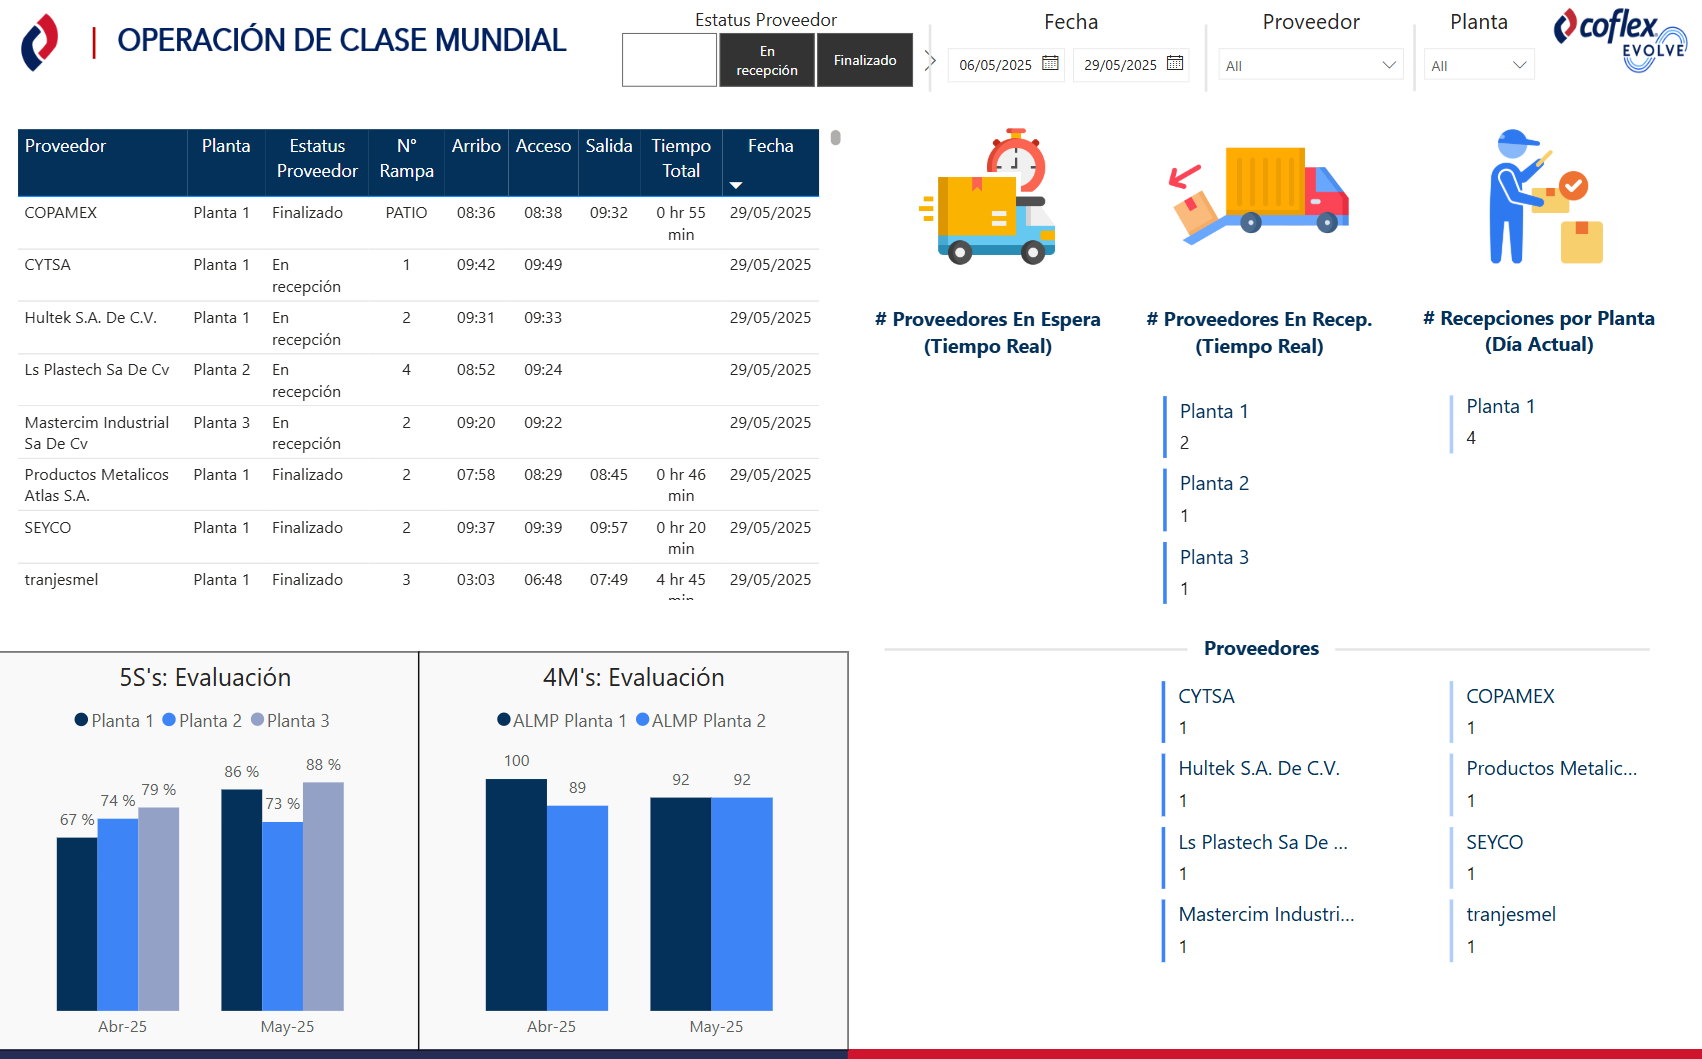

This screenshot's page, from the dashboard's own definition file:
{"tool":"powerbi","page":{"name":"General","canvas":[1280,800],"ordinal":0},"visuals":[{"type":"tableEx","fields":{"Values":["Entradas y Salidas Proveedores 2025.Proveedor","Entradas y Salidas Proveedores 2025.Planta","Entradas y Salidas Proveedores 2025.Estatus Proveedor","Entradas y Salidas Proveedores 2025.N° Rampa","Entradas y Salidas Proveedores 2025.Arribo","Entradas y Salidas Proveedores 2025.Acceso","Entradas y Salidas Proveedores 2025.Salida","Entradas y Salidas Proveedores 2025.Tiempo Total","Entradas y Salidas Proveedores 2025.Fecha"]},"box":[15.6,100.6,624.6,360.9],"z":0},{"type":"slicer","title":"Estatus Proveedor","fields":{"Values":["Entradas y Salidas Proveedores 2025.Estatus Proveedor"]},"box":[450.3,8.9,257,72.6],"z":1000},{"type":"slicer","title":"Fecha","fields":{"Values":["Entradas y Salidas Proveedores 2025.Fecha"]},"box":[706.3,8.9,200,72.6],"z":2000},{"type":"multiRowCard","title":"Recepciones en el Día","fields":{"Values":["Entradas y Salidas Proveedores 2025.Planta","Count(Entradas y Salidas Proveedores 2025.Arribo)"]},"box":[1082.7,296.2,154.2,175.4],"z":3000},{"type":"image","box":[868.2,84.1,155.3,144.1],"z":4000},{"type":"image","box":[679.3,93,128.5,126.3],"z":5000},{"type":"textbox","box":[1042.1,230.5,224.3,74.3],"z":6000},{"type":"textbox","box":[639.1,230.8,210,74.3],"z":7000},{"type":"multiRowCard","title":"Recepciones en el Día","fields":{"Values":["Entradas y Salidas Proveedores 2025.Planta","Count(Entradas y Salidas Proveedores 2025.Arribo)"]},"box":[668.2,296.2,154.2,175.4],"z":8000},{"type":"textbox","box":[841.5,230.8,210,74.3],"z":9000},{"type":"multiRowCard","title":"Recepciones en el Día","fields":{"Values":["Entradas y Salidas Proveedores 2025.Planta","Count(Entradas y Salidas Proveedores 2025.Arribo)"]},"box":[869.3,299.6,154.2,172.1],"z":10000},{"type":"image","box":[1082.7,100.8,154.2,110.6],"z":11000},{"type":"multiRowCard","title":"Recepciones en el Día","fields":{"Values":["Entradas y Salidas Proveedores 2025.Proveedor","Entradas y Salidas Proveedores 2025.Arribo"]},"box":[668.2,511.6,154.2,270.4],"z":12000},{"type":"multiRowCard","title":"Recepciones en el Día","fields":{"Values":["Entradas y Salidas Proveedores 2025.Proveedor","Entradas y Salidas Proveedores 2025.Arribo"]},"box":[868.2,511.6,154.2,270.4],"z":13000},{"type":"multiRowCard","title":"Recepciones en el Día","fields":{"Values":["Entradas y Salidas Proveedores 2025.Proveedor","Entradas y Salidas Proveedores 2025.Arribo"]},"box":[1082.7,511.6,154.2,270.4],"z":14000},{"type":"shape","box":[666.9,486.9,570,12.9],"z":15000},{"type":"textbox","box":[892.6,475.5,110,35.7],"z":16000},{"type":"slicer","title":"Proveedor","fields":{"Values":["Entradas y Salidas Proveedores 2025.Proveedor"]},"box":[910.7,8.9,148.6,72.6],"z":17000},{"type":"slicer","title":"Planta","fields":{"Values":["Entradas y Salidas Proveedores 2025.Planta"]},"box":[1063.8,8.9,92.7,72.6],"z":18000},{"type":"shape","box":[695,27.9,12.3,50.3],"z":19000},{"type":"shape","box":[900.6,27.9,12.3,50.3],"z":20000},{"type":"shape","box":[1055.7,28.1,12.1,50],"z":21000},{"type":"clusteredColumnChart","title":"5S''s: Evaluación","fields":{"Category":["0. Calendario.Año","0. Calendario.Mes (MesAño)","0. Calendario.No.Sem","0. Calendario.Sem (DiaMes)"],"Y":["5S's.Calificacion"],"Series":["5S's.Planta"]},"box":[0,495.1,320.7,297.2],"z":22000},{"type":"clusteredColumnChart","title":"4M''s: Evaluación","fields":{"Category":["0. Calendario.Año","0. Calendario.Mes (MesAño)","0. Calendario.No.Sem"],"Y":["Avg(4MS.CALIF)"],"Series":["4MS.AREA"]},"box":[319.6,495,320.7,297.2],"z":23001}]}

Visuals, with their boxes in screenshot pixels (x1, y1, x2, y2), scaled from the page's 1280x800 canvas onto the 1702x1059 screenshot:
tableEx - Entradas y Salidas Proveedores 2025.Proveedor x Entradas y Salidas Proveedores 2025.Planta: left=21, top=133, right=851, bottom=611
"Estatus Proveedor" slicer: left=599, top=12, right=940, bottom=108
"Fecha" slicer: left=939, top=12, right=1205, bottom=108
"Recepciones en el Día" multiRowCard: left=1440, top=392, right=1645, bottom=624
image: left=1154, top=111, right=1361, bottom=302
image: left=903, top=123, right=1074, bottom=290
textbox: left=1386, top=305, right=1684, bottom=403
textbox: left=850, top=306, right=1129, bottom=404
"Recepciones en el Día" multiRowCard: left=888, top=392, right=1094, bottom=624
textbox: left=1119, top=306, right=1398, bottom=404
"Recepciones en el Día" multiRowCard: left=1156, top=397, right=1361, bottom=624
image: left=1440, top=133, right=1645, bottom=280
"Recepciones en el Día" multiRowCard: left=888, top=677, right=1094, bottom=1035
"Recepciones en el Día" multiRowCard: left=1154, top=677, right=1359, bottom=1035
"Recepciones en el Día" multiRowCard: left=1440, top=677, right=1645, bottom=1035
shape: left=887, top=645, right=1645, bottom=662
textbox: left=1187, top=629, right=1333, bottom=677
"Proveedor" slicer: left=1211, top=12, right=1409, bottom=108
"Planta" slicer: left=1415, top=12, right=1538, bottom=108
shape: left=924, top=37, right=940, bottom=104
shape: left=1198, top=37, right=1214, bottom=104
shape: left=1404, top=37, right=1420, bottom=103
"5S''s: Evaluación" clusteredColumnChart: left=0, top=655, right=426, bottom=1049
"4M''s: Evaluación" clusteredColumnChart: left=425, top=655, right=851, bottom=1049
